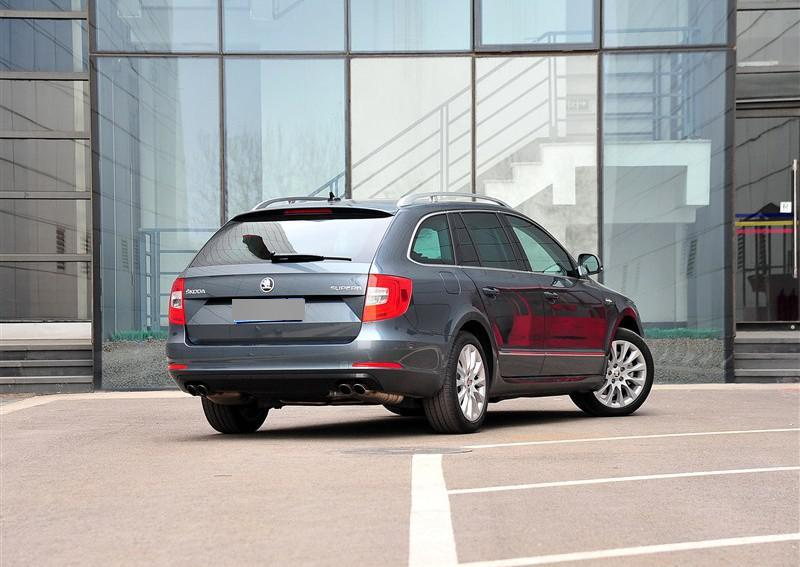Wagon: (163, 190, 656, 434)
